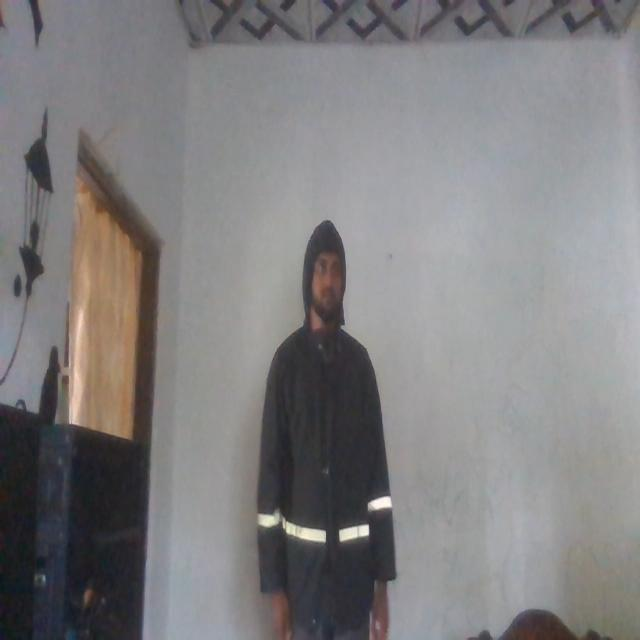Jacket_Wearer: (245, 308, 396, 640)
Person: (250, 210, 401, 640)
